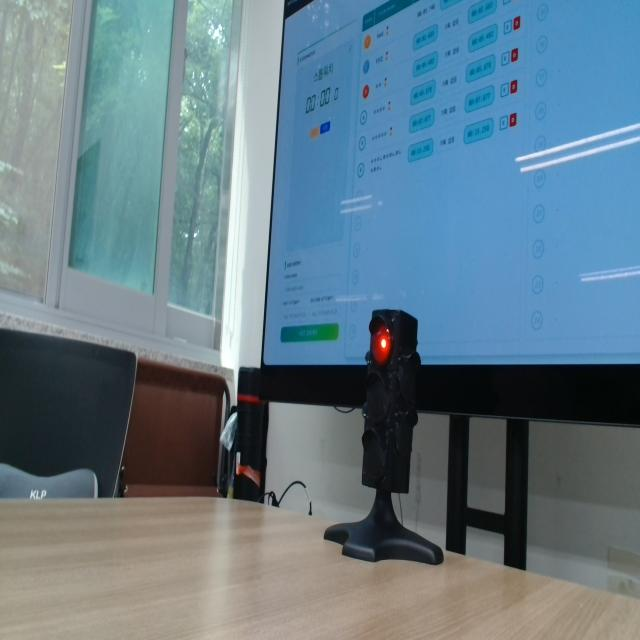red_light: (371, 323, 391, 365)
